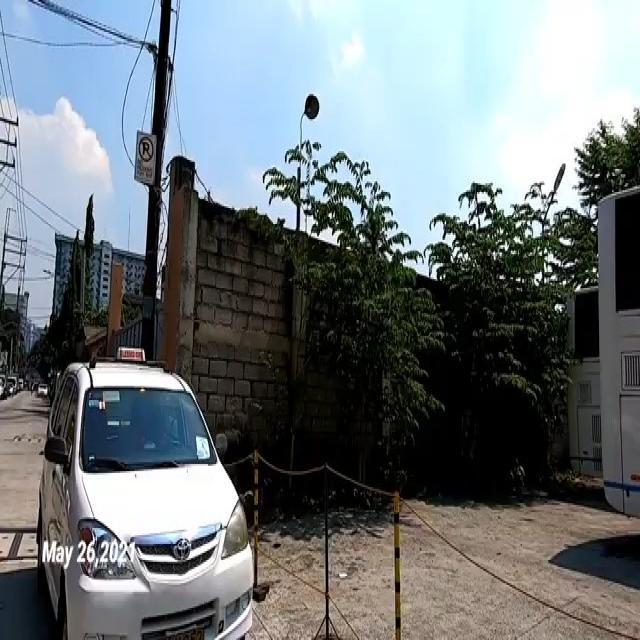bus: (598, 186, 640, 520), (566, 279, 610, 486)
car: (38, 355, 256, 640)
